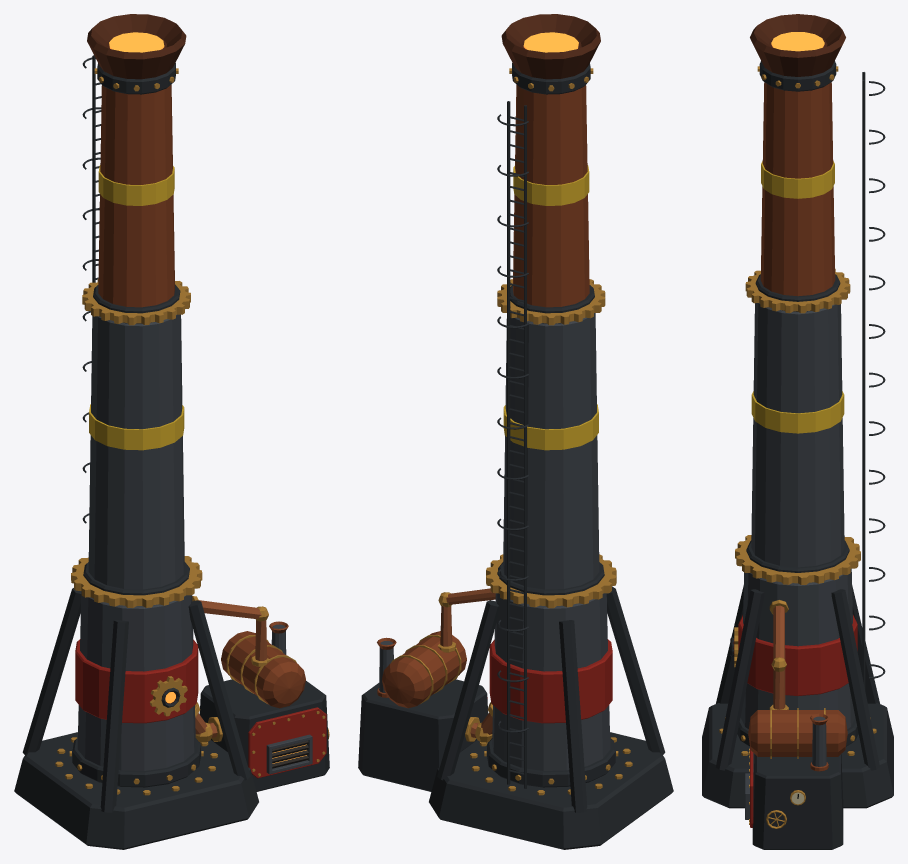
The model's file is cog_smokestack.fbx.
The picture shows the model from 3 angles, left to right: view 1: azimuth 30°, elevation 25°; view 2: azimuth 150°, elevation 25°; view 3: azimuth 270°, elevation 25°; orthographic projection. The views are drawn at different scales.
Parts seen in each view (by area): view 1: Body, Glow; view 2: Body, Glow; view 3: Body, Glow.
Part boxes in pixels (x1=…): Body: x1=14, y1=14, x2=329, y2=849; Glow: x1=109, y1=32, x2=306, y2=763; Body: x1=358, y1=14, x2=673, y2=849; Glow: x1=523, y1=32, x2=578, y2=52; Body: x1=702, y1=14, x2=893, y2=849; Glow: x1=771, y1=32, x2=824, y2=51.
Bounding box in the file's own units: 21.94 × 60.6 × 14.32.
Materials: 2 (1 with a texture image).
